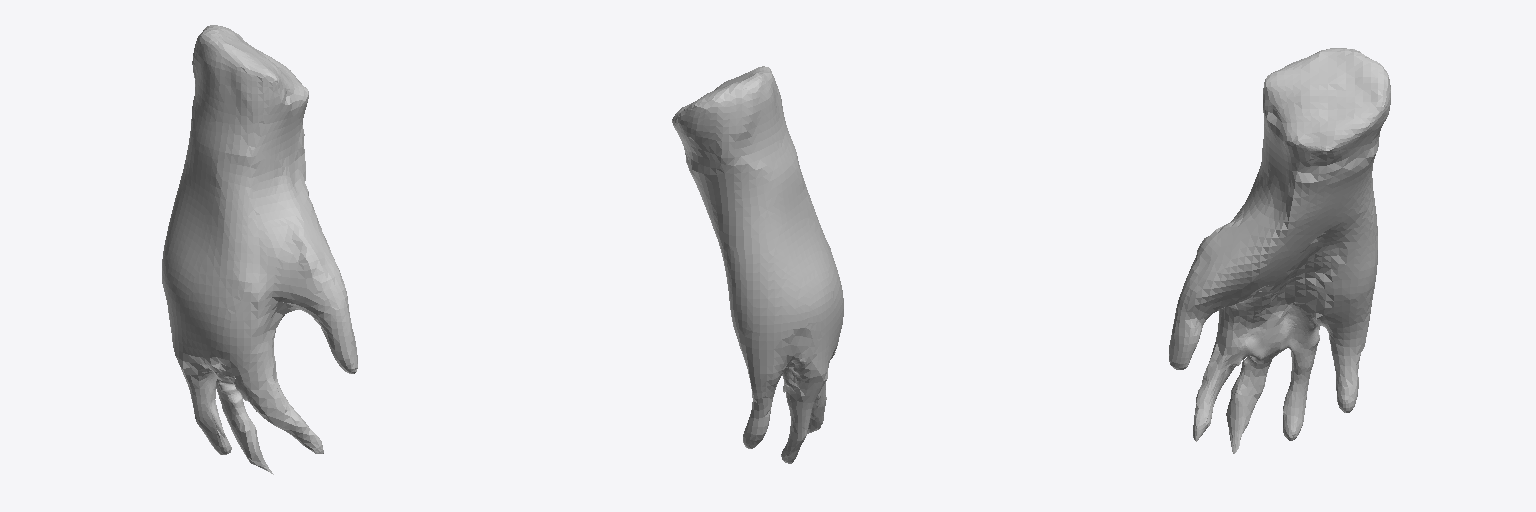
Rendered from Skin_Hand.OBJ.
3 views of the same model, side by side, from view 1: azimuth 30°, elevation 25°; view 2: azimuth 150°, elevation 25°; view 3: azimuth 270°, elevation 25° (orthographic).
Visible parts, largest first — view 1: ZBrush_defualt_group; view 2: ZBrush_defualt_group; view 3: ZBrush_defualt_group.
Part boxes in pixels (x1,y1,x2,y2): ZBrush_defualt_group: (162, 25, 357, 474); ZBrush_defualt_group: (672, 66, 843, 463); ZBrush_defualt_group: (1169, 48, 1390, 453).
Bounding box in the file's own units: 0.0731 × 0.2027 × 0.1018.